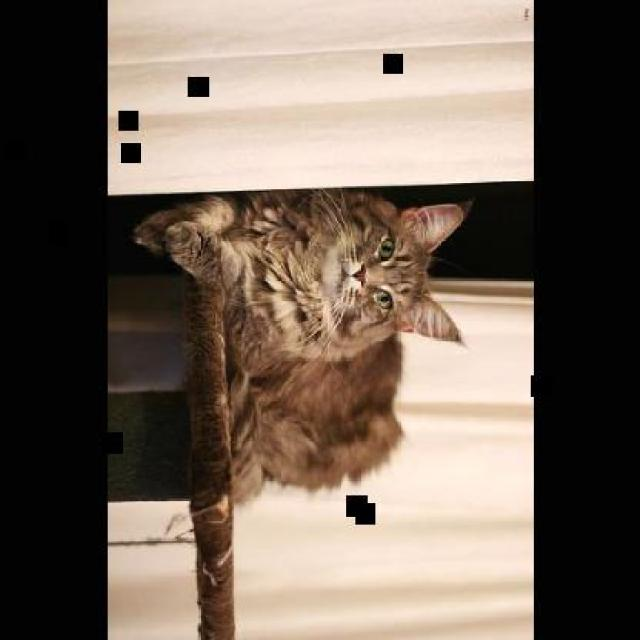unauthorized: (131, 186, 474, 506)
